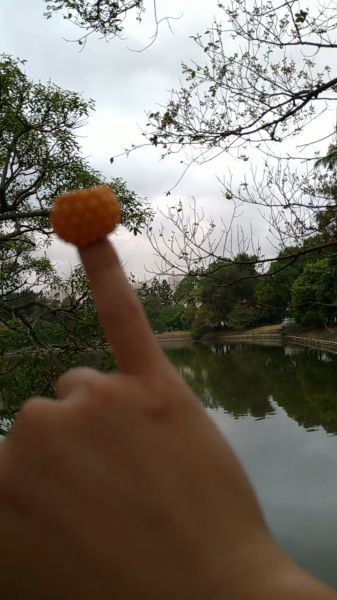eggs: (50, 187, 121, 245)
